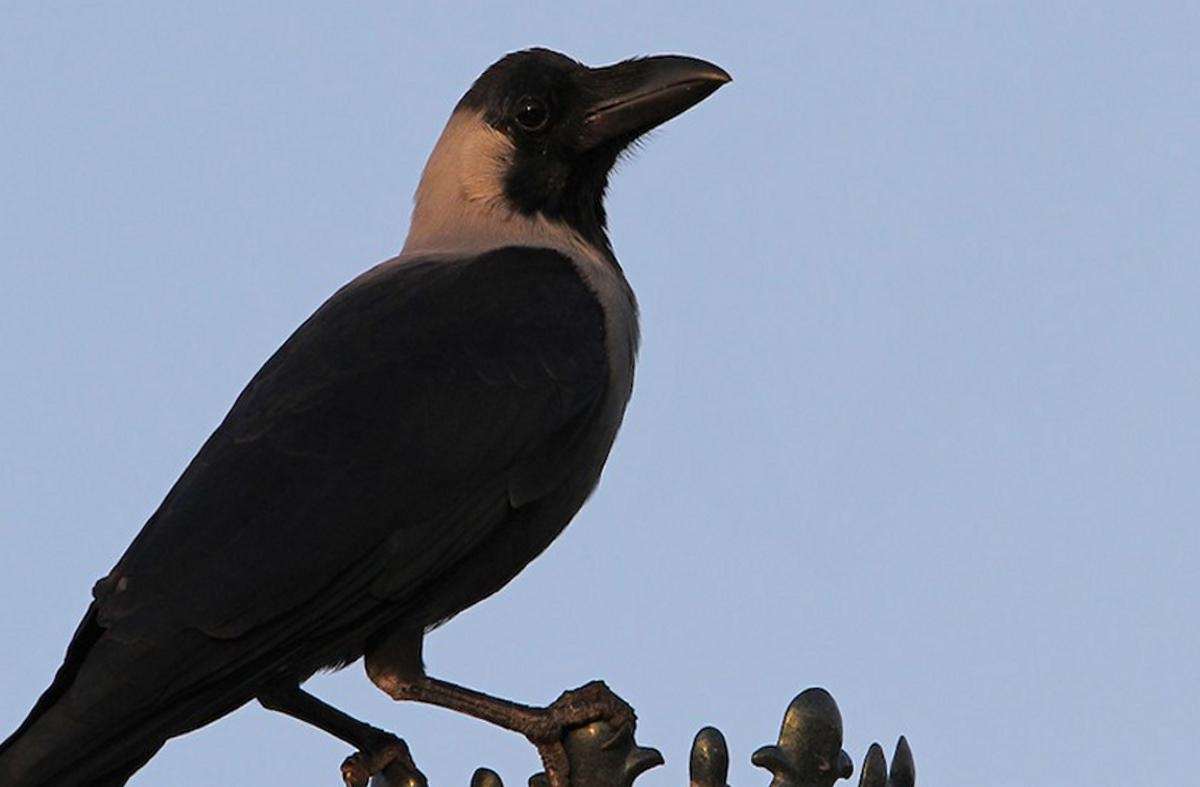crow: (7, 29, 743, 787)
